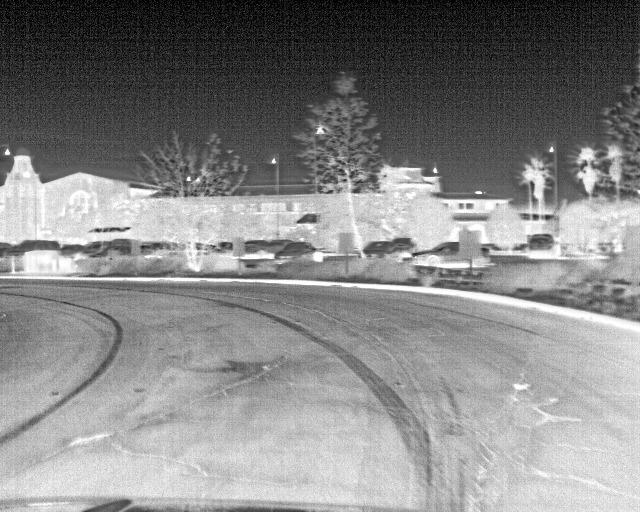car: (408, 240, 463, 268), (5, 239, 61, 256), (274, 241, 316, 262), (525, 233, 558, 257), (390, 237, 418, 258), (363, 240, 389, 254)
